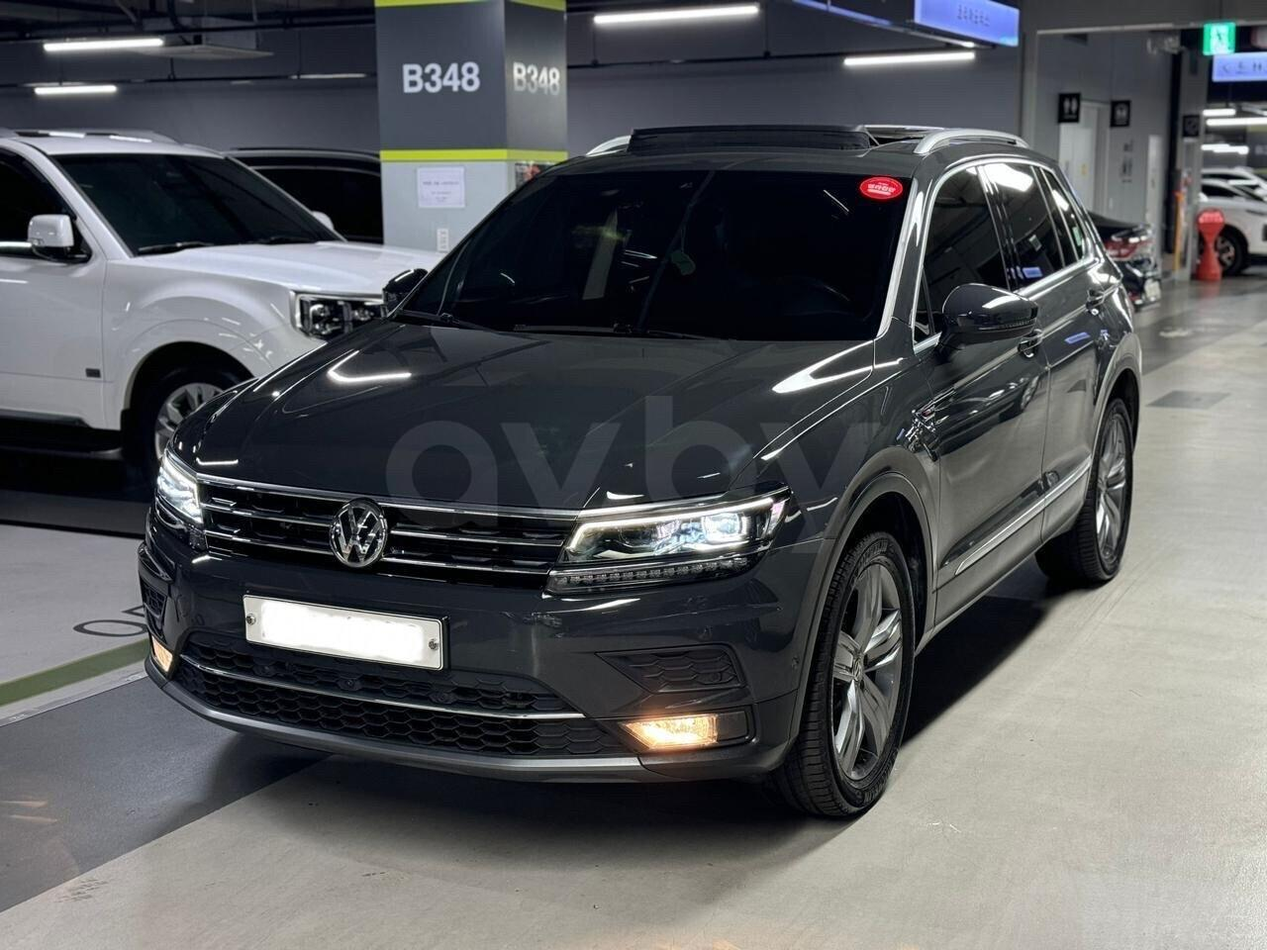Tiguan_2016-2021: (131, 125, 1147, 824)
